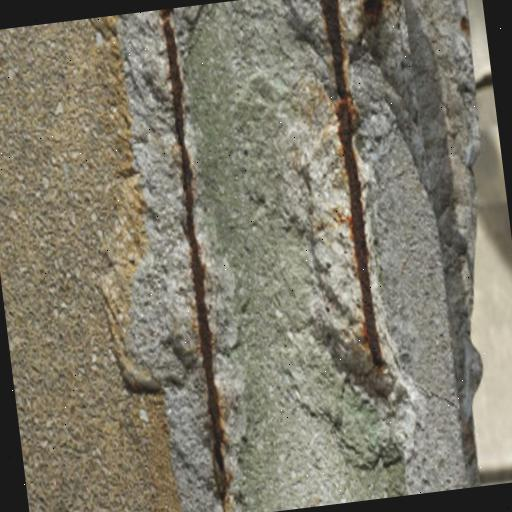spalling: (112, 2, 284, 512), (266, 0, 446, 473)
